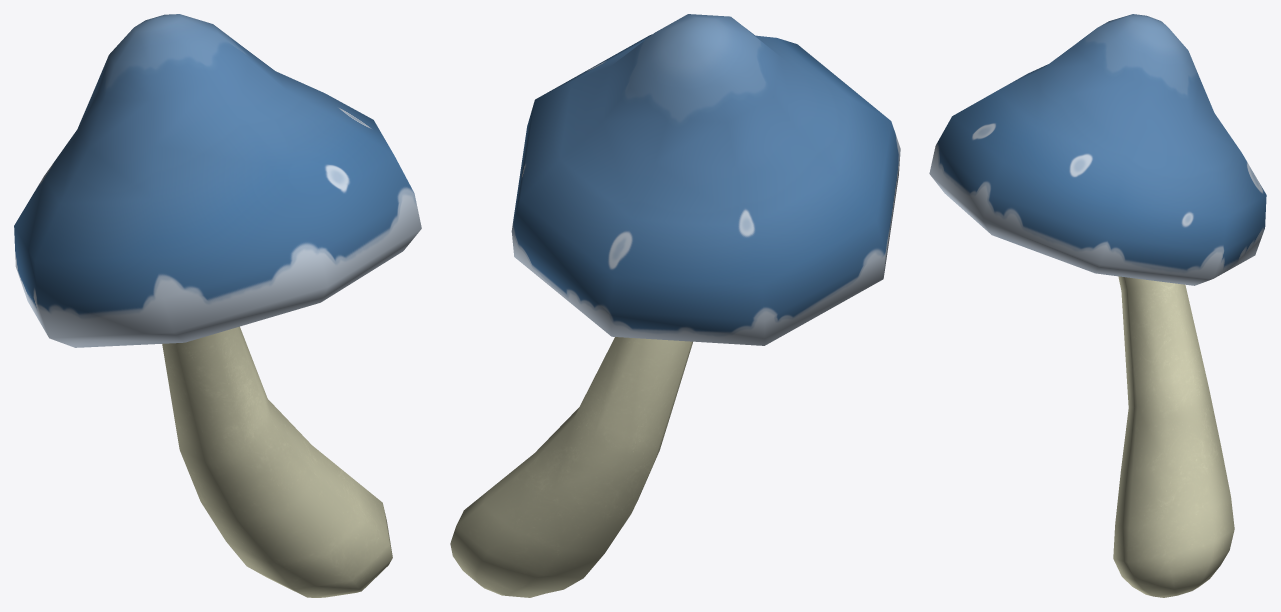
File: seta pequeña 2.fbx
The picture shows the model from 3 angles, left to right: view 1: azimuth 30°, elevation 25°; view 2: azimuth 150°, elevation 25°; view 3: azimuth 270°, elevation 25°; orthographic projection. The views are drawn at different scales.
Visible parts, largest first — view 1: seta2/004, tronco seta2/004; view 2: seta2/004, tronco seta2/004; view 3: seta2/004, tronco seta2/004.
Part boxes in pixels (bbox=[...]): seta2/004: bbox=[14, 14, 421, 347]; tronco seta2/004: bbox=[162, 326, 392, 597]; seta2/004: bbox=[511, 14, 900, 345]; tronco seta2/004: bbox=[450, 337, 692, 597]; seta2/004: bbox=[929, 14, 1266, 285]; tronco seta2/004: bbox=[1113, 276, 1234, 597].
Size of the model in its own units: 95.89 by 144 by 87.37.
